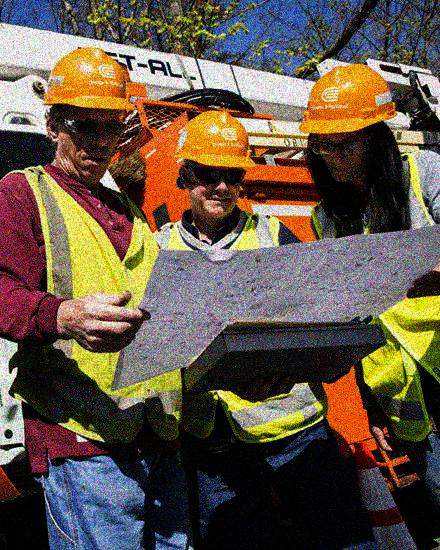helmet: (42, 47, 139, 181), (300, 61, 401, 183), (173, 110, 257, 216)
